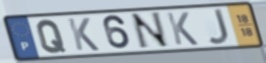6: (101, 14, 132, 52)
J: (206, 7, 232, 46)
K: (164, 11, 201, 47), (65, 17, 102, 52)
N: (129, 11, 173, 51)
Q: (35, 19, 68, 55)
